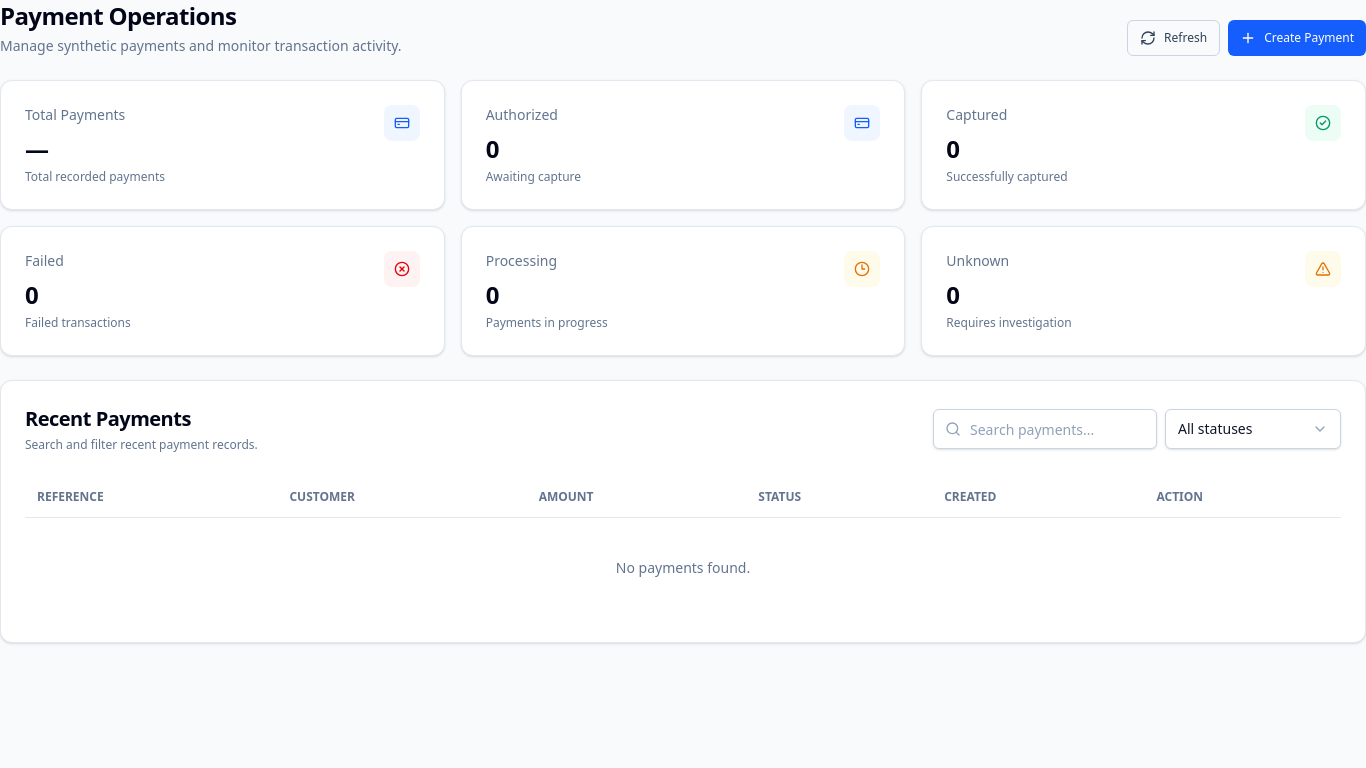
Scenario: Create Payment › creates a payment with idempotency key, refreshes, and opens the new payment
Expected: the heading "Payment Operations" is shown, [0,0,236,32]
Click the button "Create Payment" at (1297, 38), box [1228,20,1365,56]
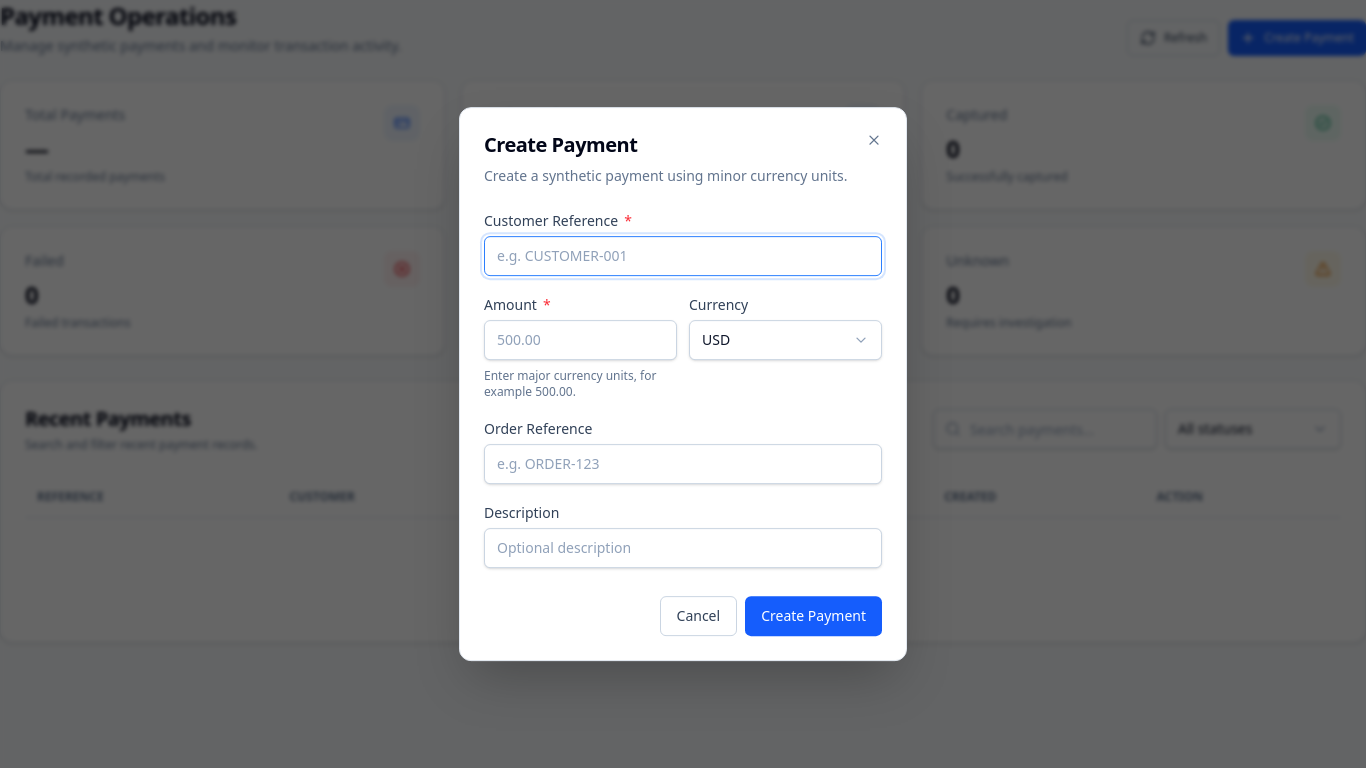
Expected: the dialog is shown, [459,107,907,661]
Type "Acme Corp" into the field labelled "Customer Reference *" at (683, 256), box [484,236,882,276]
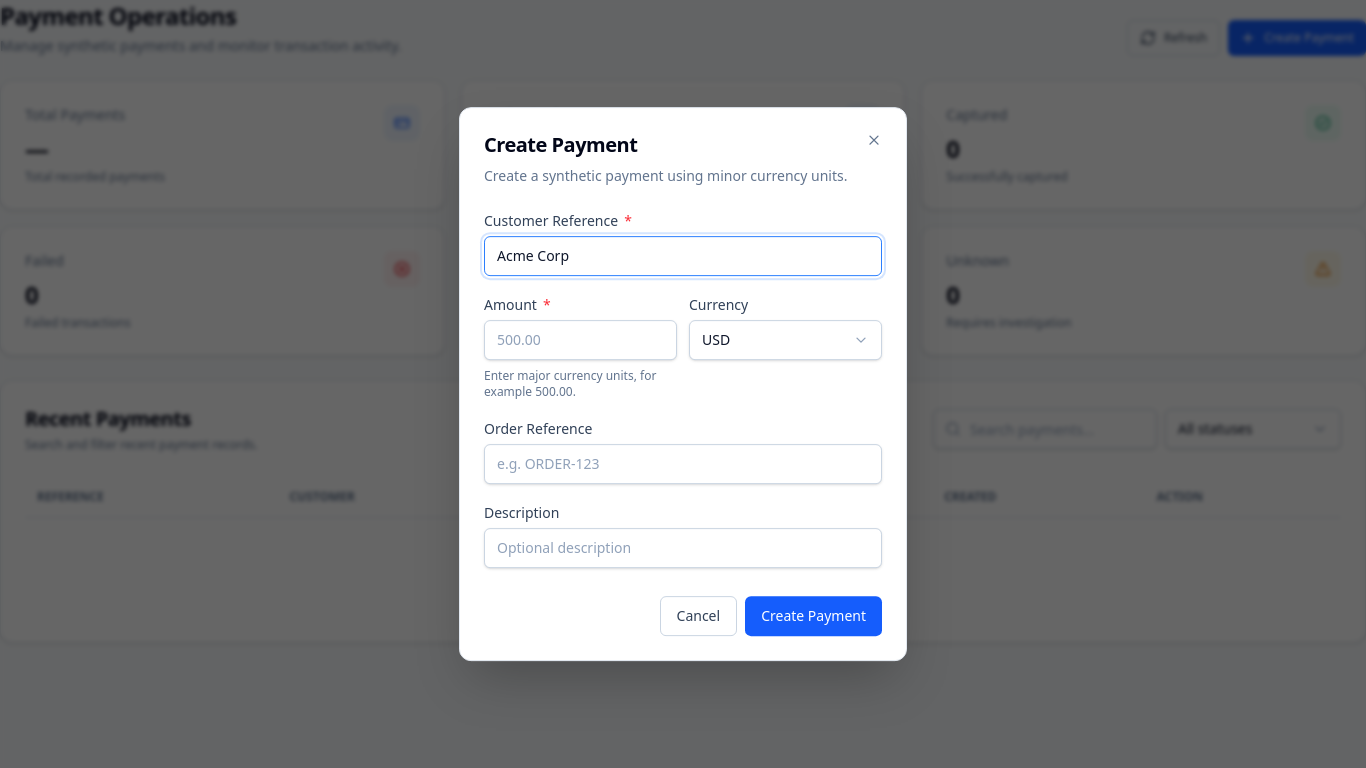
Type "500" into the field labelled "Amount *" at (580, 340), box [484,320,677,360]
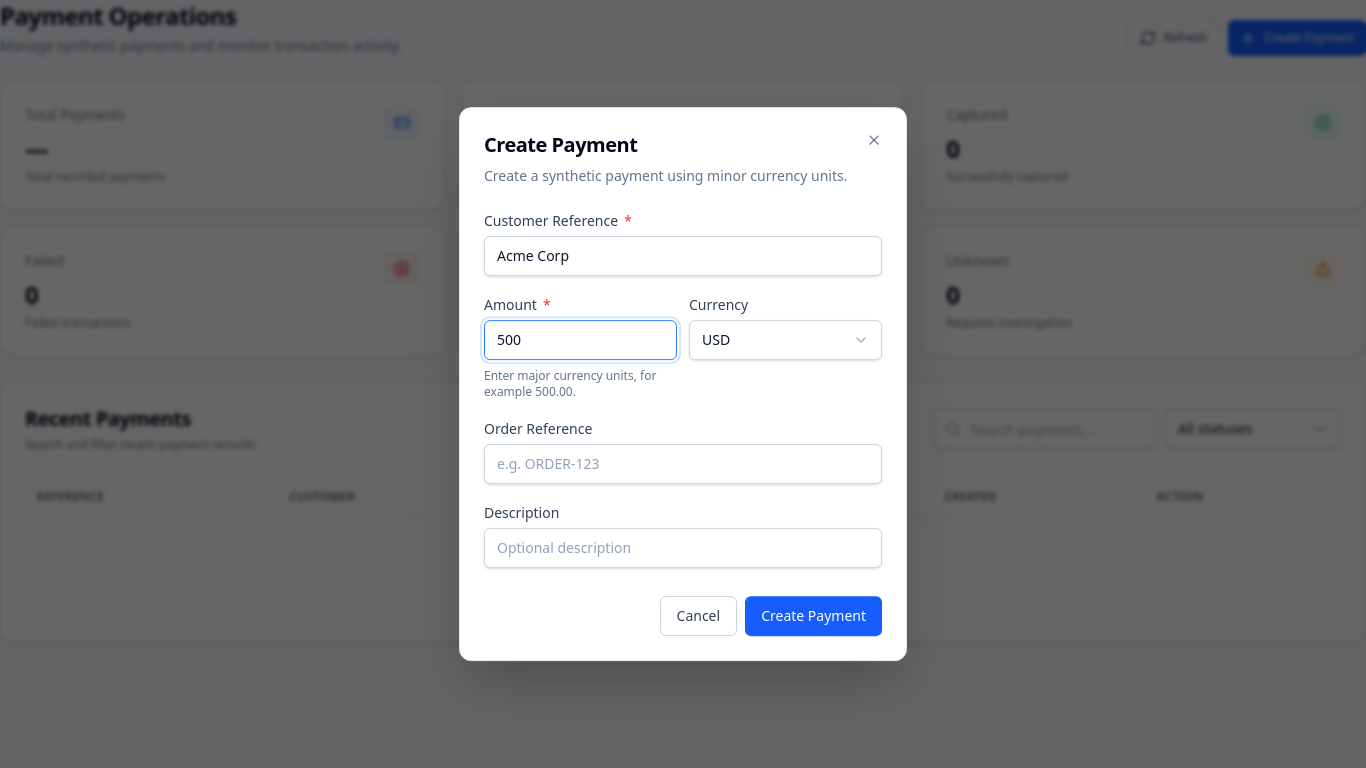
Type "ORDER-123" into the field labelled "Order Reference" at (683, 464), box [484,444,882,484]
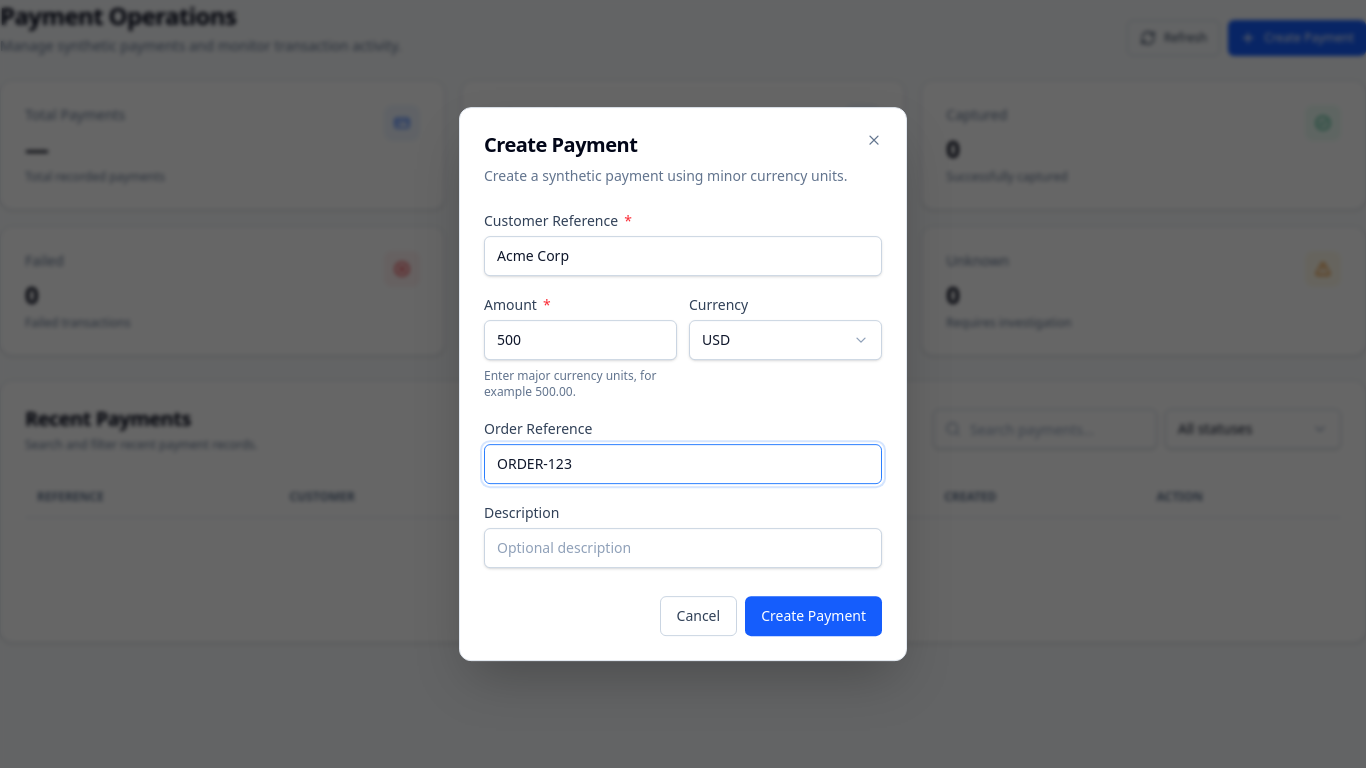
Type "Test payment" into the field labelled "Description" at (683, 548), box [484,528,882,568]
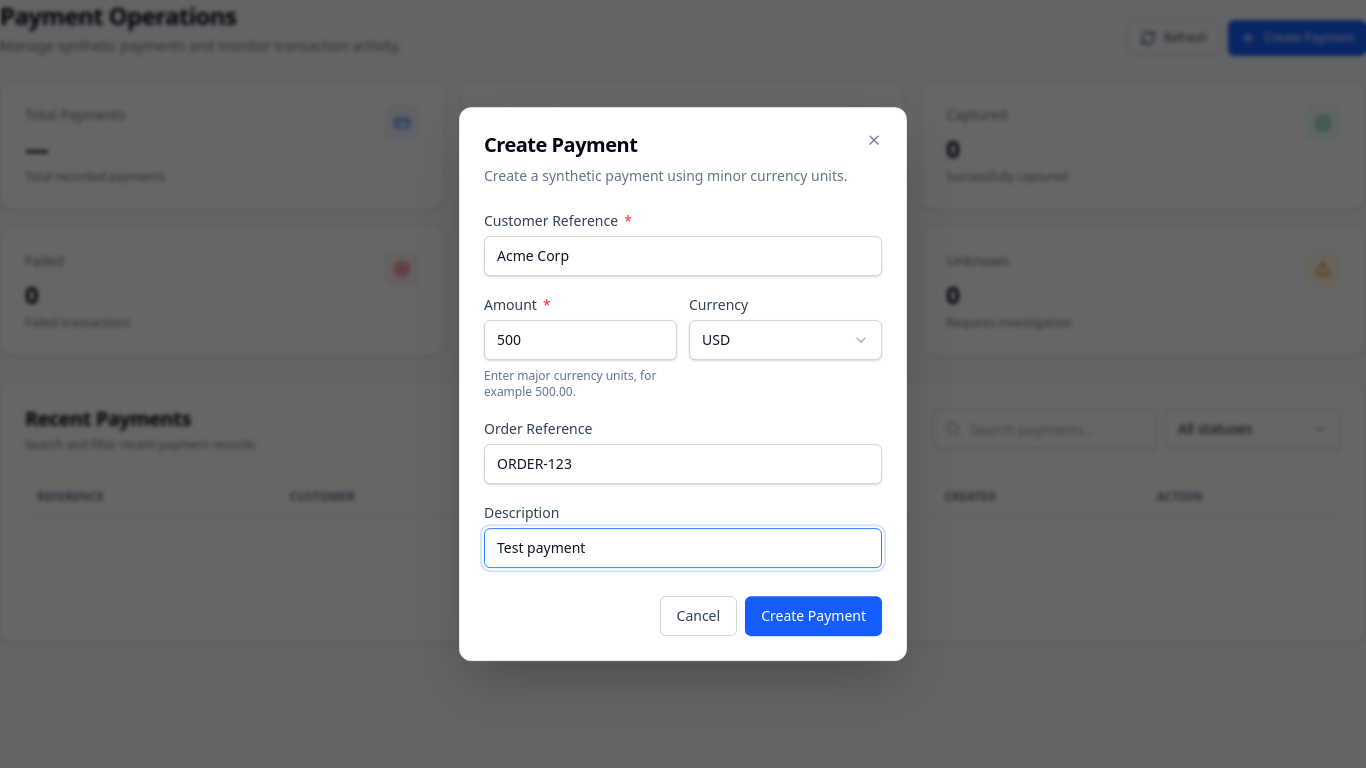
Click the button "Create Payment" at (814, 616), box [745,596,882,636]
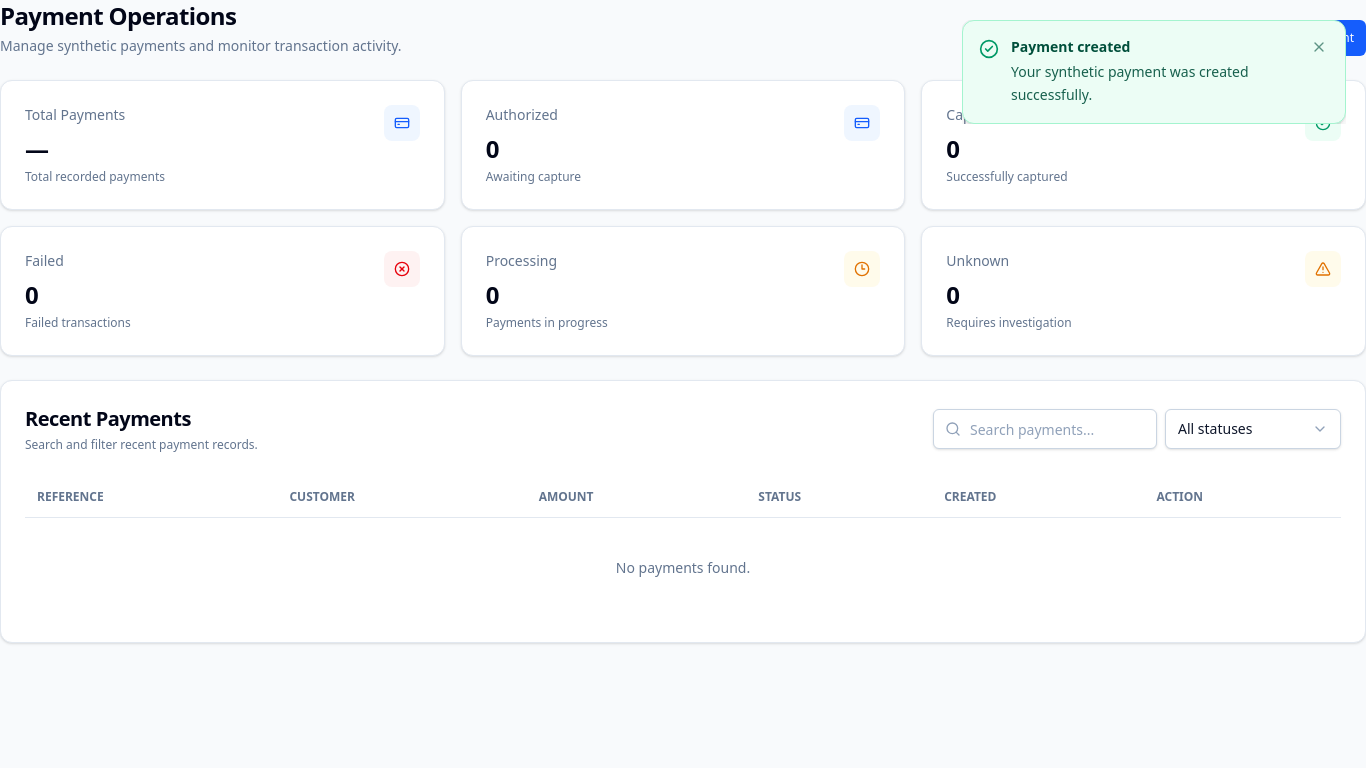
Expected: the text "Payment created" is shown, [1011,37,1130,56]
